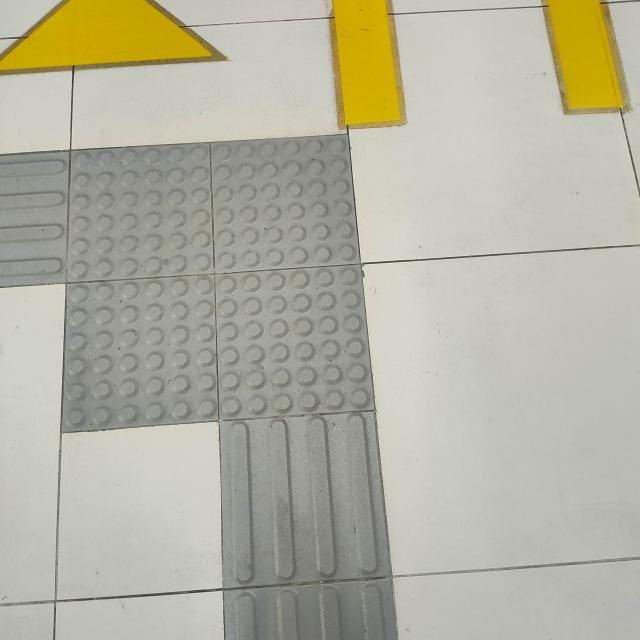kiri: (0, 122, 431, 473)
